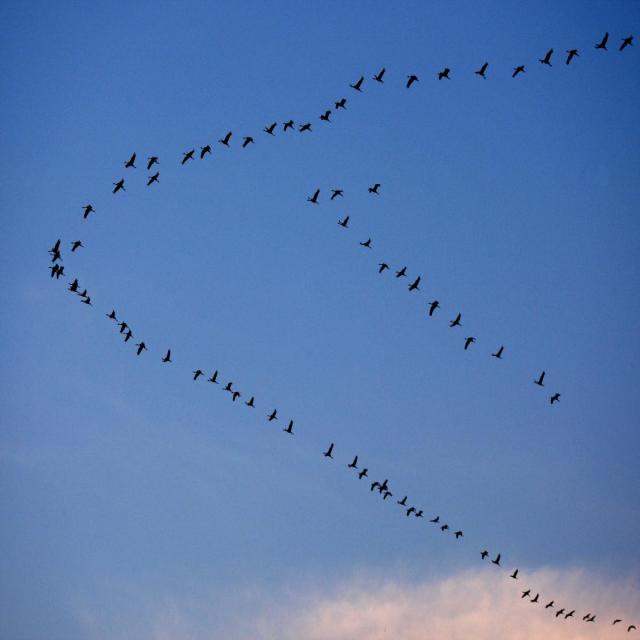bird: (50, 238, 64, 262), (596, 31, 610, 53), (539, 49, 555, 68), (618, 36, 634, 54), (50, 263, 66, 281), (407, 276, 422, 294), (463, 335, 478, 353), (474, 61, 489, 79), (367, 182, 383, 198), (348, 78, 364, 94), (113, 180, 128, 197), (566, 49, 580, 67), (123, 153, 137, 171), (426, 300, 440, 318), (219, 132, 235, 147), (404, 73, 419, 89), (182, 150, 196, 167), (307, 189, 321, 206), (372, 67, 386, 84), (82, 203, 96, 220), (263, 122, 278, 137), (376, 261, 391, 276), (437, 66, 452, 81), (317, 110, 332, 125), (511, 64, 526, 79), (492, 345, 507, 360), (240, 134, 255, 149), (147, 171, 161, 187), (198, 146, 212, 162), (333, 97, 349, 111), (144, 155, 158, 171), (448, 312, 462, 328), (69, 239, 83, 255), (66, 276, 80, 292), (534, 371, 547, 388), (330, 189, 345, 203), (283, 120, 297, 135), (338, 216, 352, 231), (134, 341, 147, 357), (80, 293, 94, 307), (321, 444, 334, 459), (281, 419, 294, 434), (298, 122, 313, 135), (395, 267, 410, 280), (118, 319, 131, 334), (161, 348, 173, 364), (357, 468, 371, 481), (548, 393, 561, 407), (230, 389, 242, 404), (207, 370, 219, 384), (360, 237, 374, 249), (346, 454, 358, 468), (582, 614, 598, 624), (397, 496, 410, 508), (223, 380, 235, 393), (266, 409, 278, 422), (369, 481, 382, 493), (530, 591, 542, 604), (244, 397, 256, 409), (508, 570, 520, 582), (381, 491, 393, 503), (492, 554, 504, 566), (625, 623, 638, 634), (610, 618, 624, 628), (105, 310, 117, 321), (192, 371, 204, 382), (404, 508, 416, 519), (122, 331, 134, 342), (429, 515, 442, 525), (544, 598, 556, 608), (564, 611, 576, 621), (480, 550, 490, 561), (453, 529, 463, 540), (520, 588, 530, 599), (554, 610, 565, 620), (440, 522, 450, 532), (415, 510, 424, 518)
